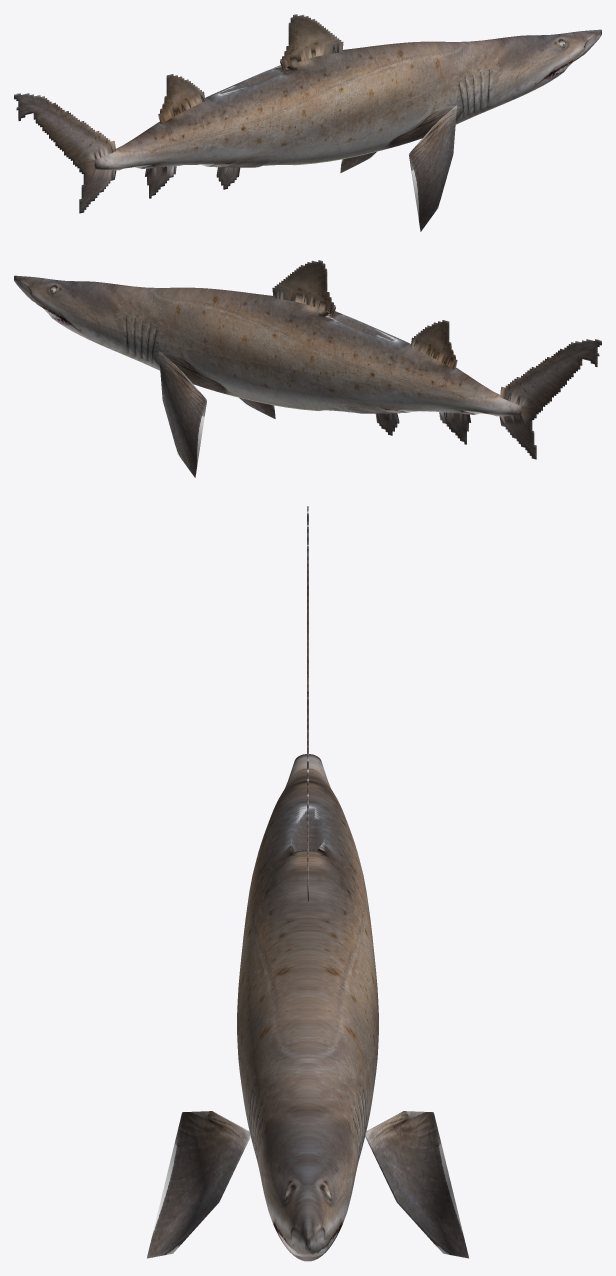
Rendered from raggedtooth_shark.glb.
3 renders of one model, top to bottom at view 1: azimuth 30°, elevation 25°; view 2: azimuth 150°, elevation 25°; view 3: azimuth 270°, elevation 25°, orthographic. The views are drawn at different scales.
Parts seen in each view (by area): view 1: raggedtooth_shark_realistic; view 2: raggedtooth_shark_realistic; view 3: raggedtooth_shark_realistic.
Part boxes in pixels (bbox=[...]): raggedtooth_shark_realistic: bbox=[14, 14, 601, 231]; raggedtooth_shark_realistic: bbox=[14, 260, 601, 477]; raggedtooth_shark_realistic: bbox=[147, 506, 468, 1261].
Size of the model in its own units: 1 by 0.3392 by 0.2377.
3 materials, 3 textured.
